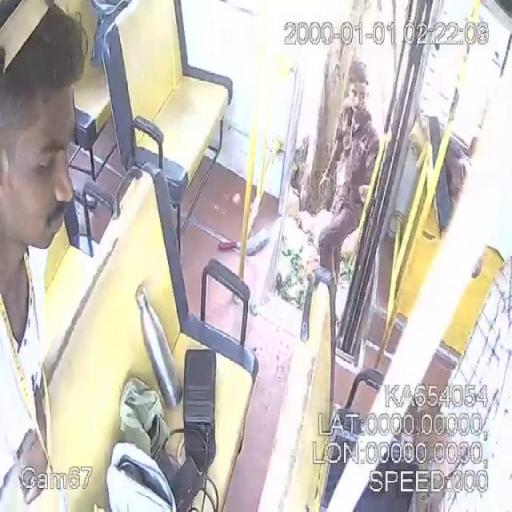persona: (0, 4, 90, 510), (313, 59, 381, 286)
